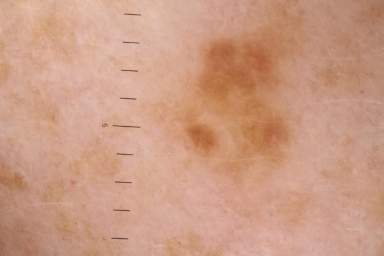melanoma: (185, 38, 290, 155)
